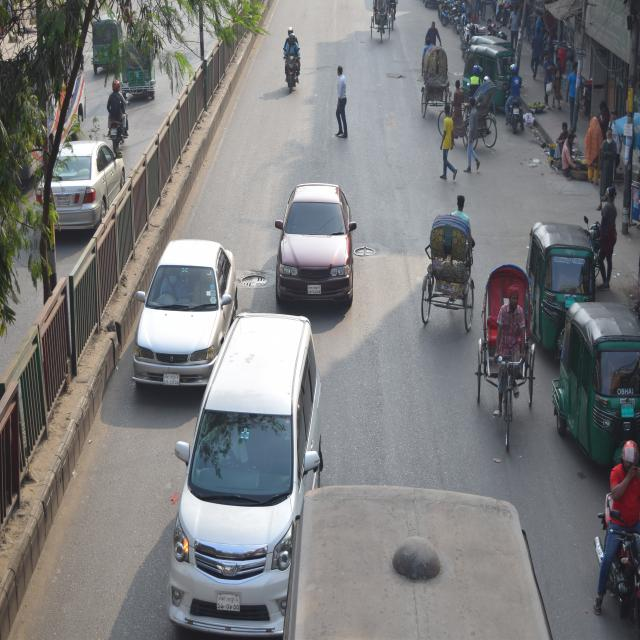bus: (283, 476, 564, 640)
car: (127, 235, 245, 398), (274, 183, 356, 303), (37, 139, 126, 243)
microbus: (169, 318, 317, 640)
motorbike: (588, 478, 640, 640), (100, 90, 134, 152), (583, 212, 613, 276), (277, 33, 307, 93), (501, 81, 532, 131), (446, 4, 471, 35)
